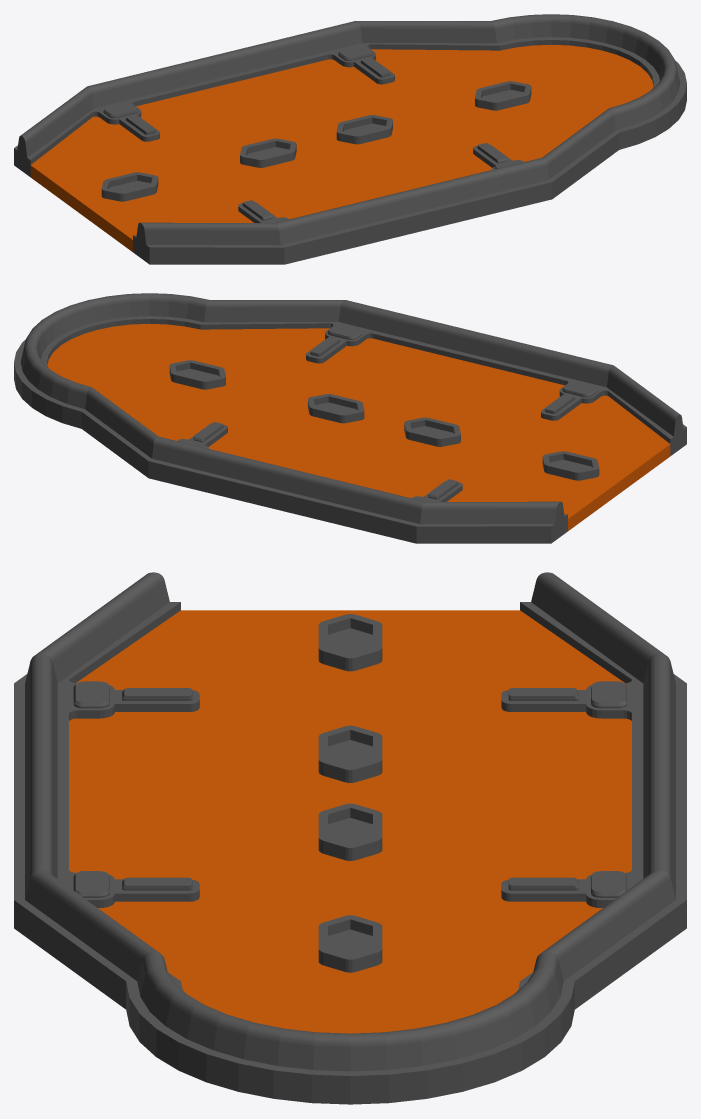
Rendered from RailStart.fbx.
3 renders of one model, top to bottom at view 1: azimuth 30°, elevation 25°; view 2: azimuth 150°, elevation 25°; view 3: azimuth 270°, elevation 25°, orthographic. The views are drawn at different scales.
Parts seen in each view (by area): view 1: RailStart; view 2: RailStart; view 3: RailStart.
Part boxes in pixels (x1,y1,x2,y2): RailStart: [14, 14, 686, 264]; RailStart: [14, 293, 686, 543]; RailStart: [14, 572, 686, 1104].
Bounding box in the file's own units: 2.5 × 0.143 × 1.5.
